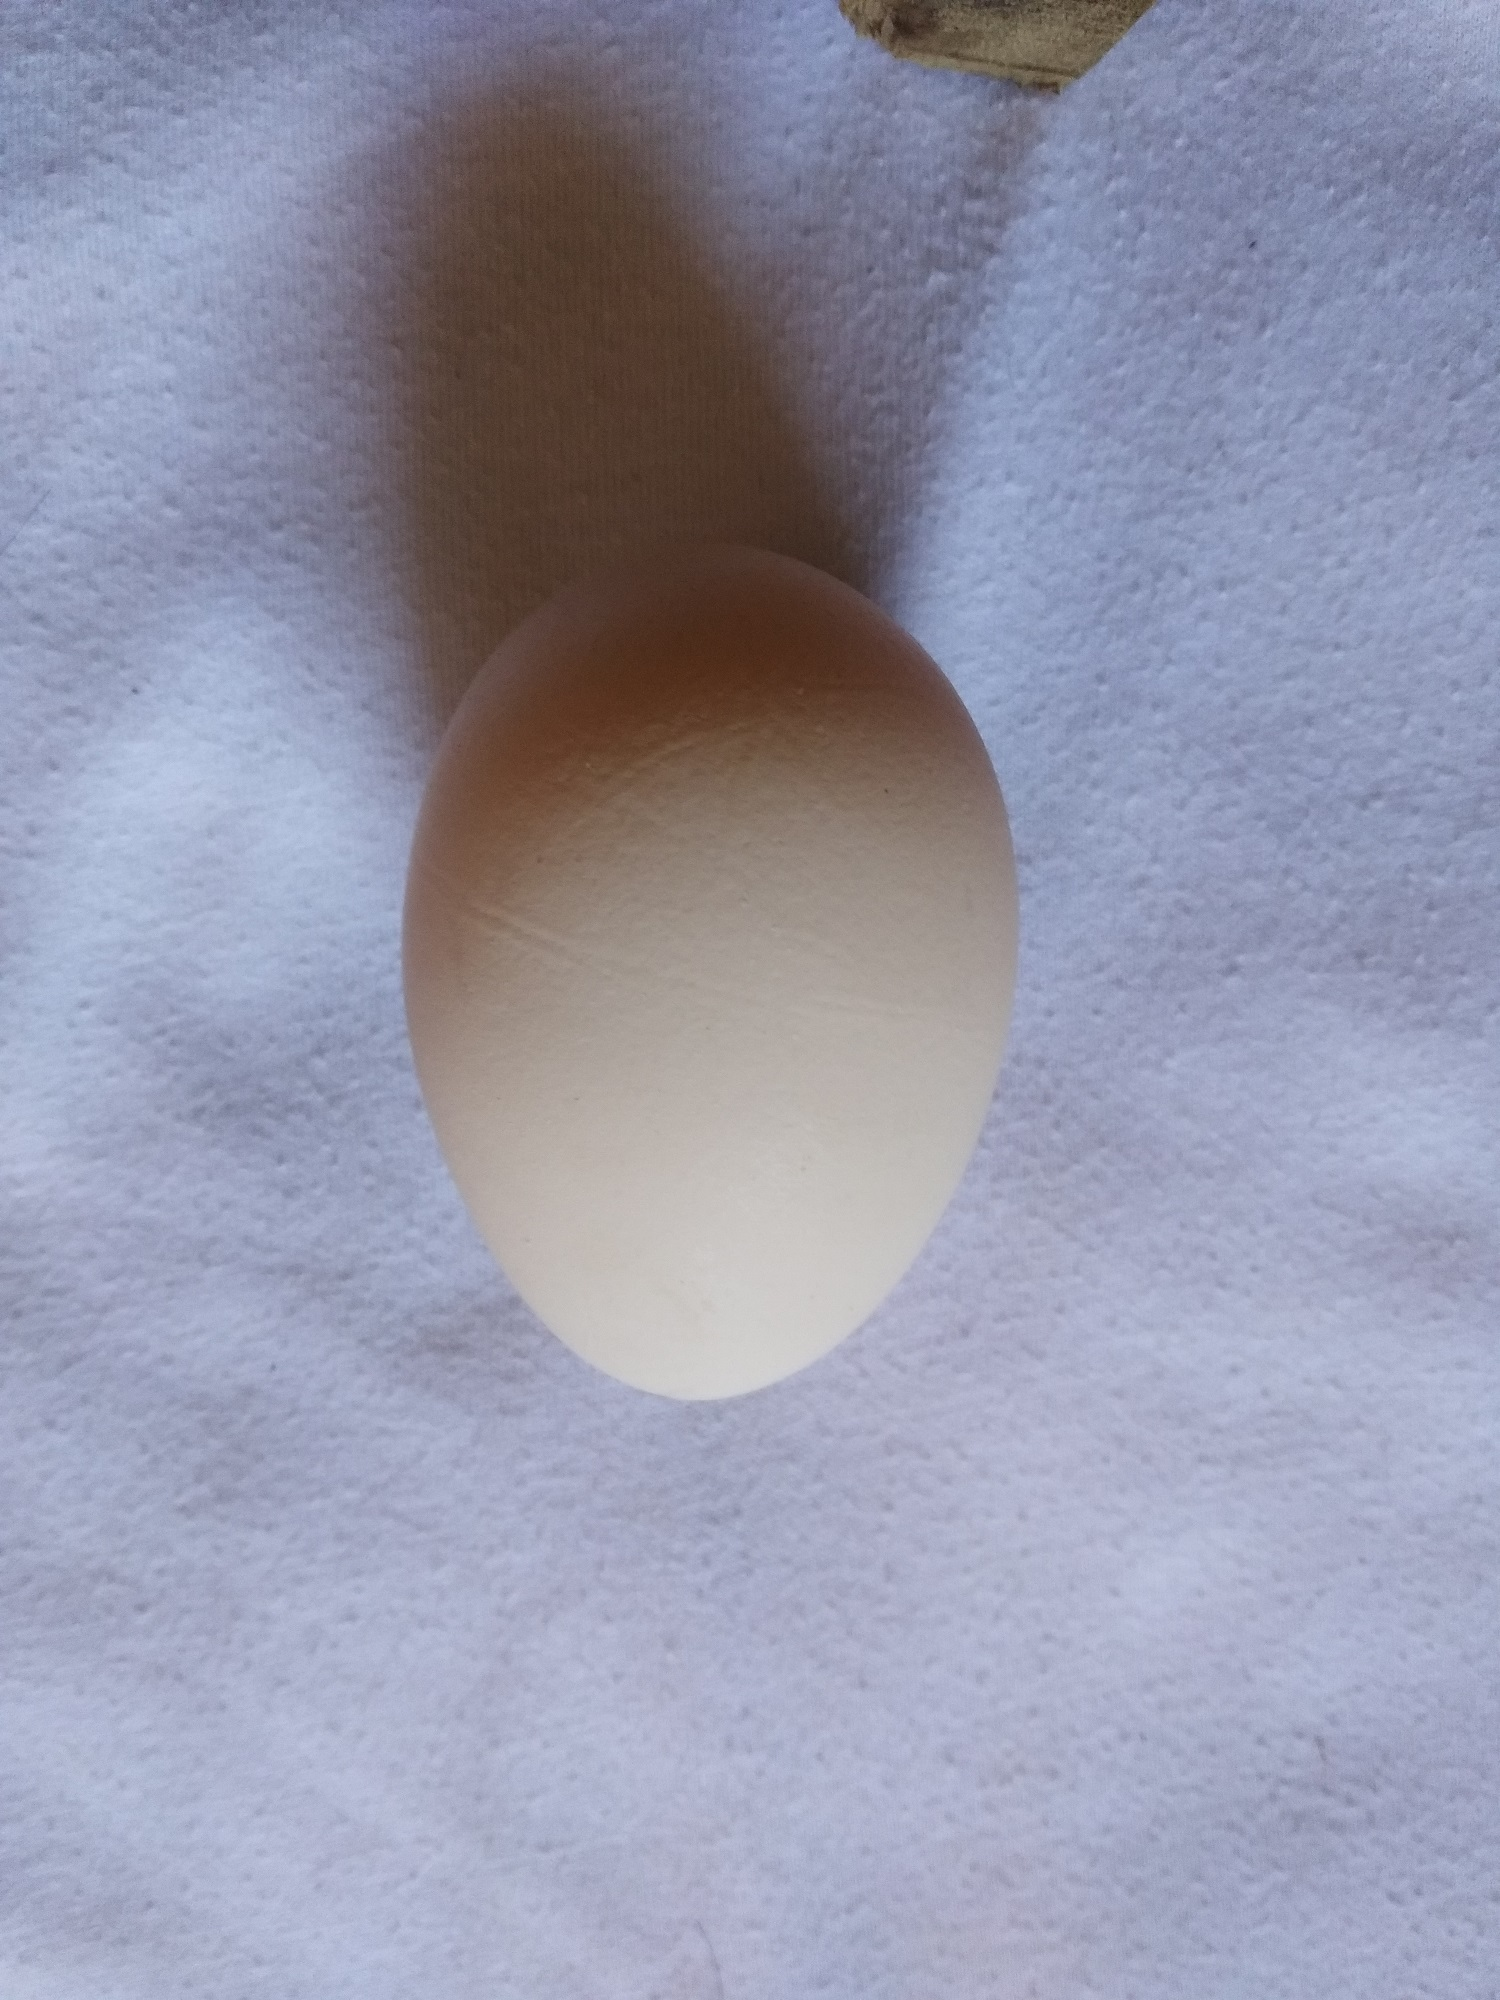Male: (392, 534, 1029, 1413)
